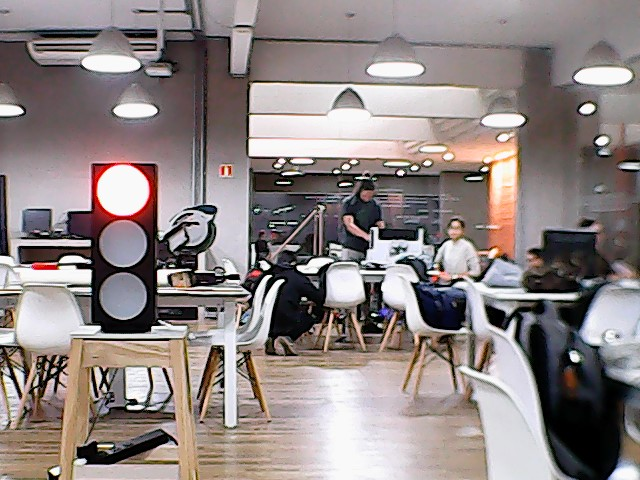vermelho: (86, 157, 165, 337)
